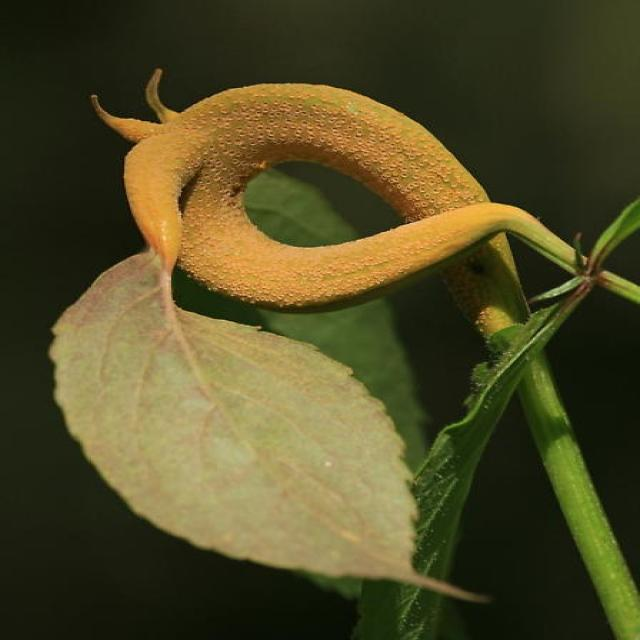Elderberry_rust: (87, 65, 539, 345)
